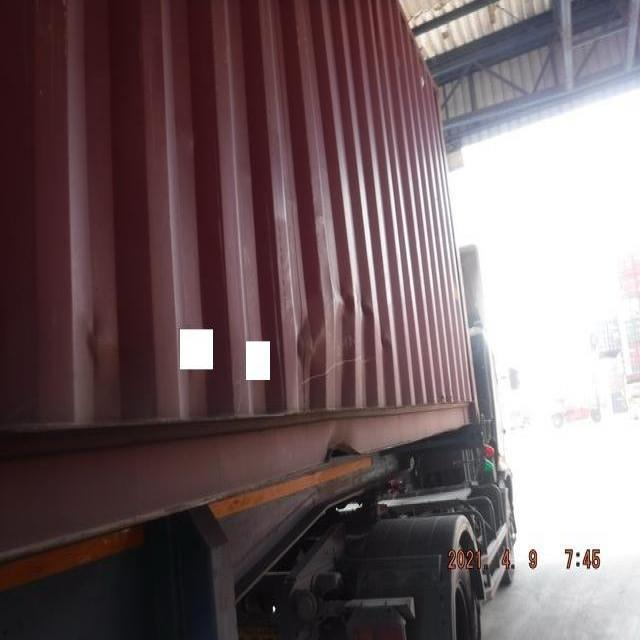Dent: (278, 271, 386, 377)
Minor-Dent: (69, 315, 124, 375)
